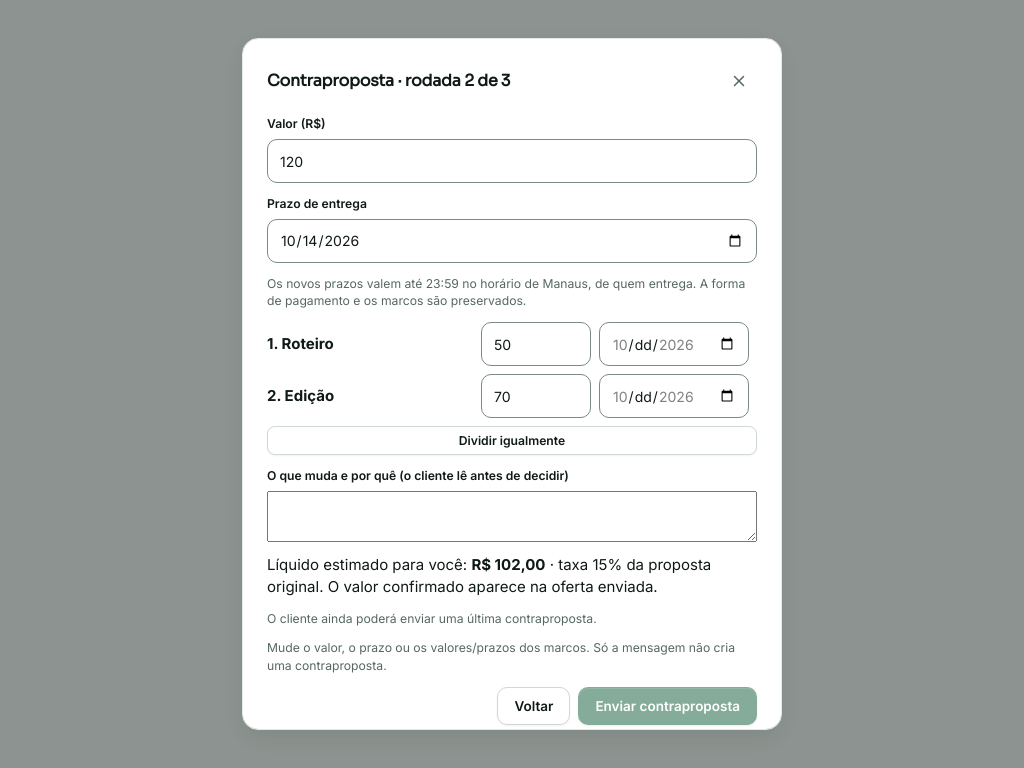
CounterOfferModal › preserva ids, títulos, modo, fuso e seq ao editar valor e ratear os marcos
Expected: the date field labelled "Prazo de entrega" holds "2026-10-14", [267, 219, 757, 263]
Replace the text in the number field labelled "Valor (R$)" with "200.01": (512, 161) [267, 139, 757, 183]
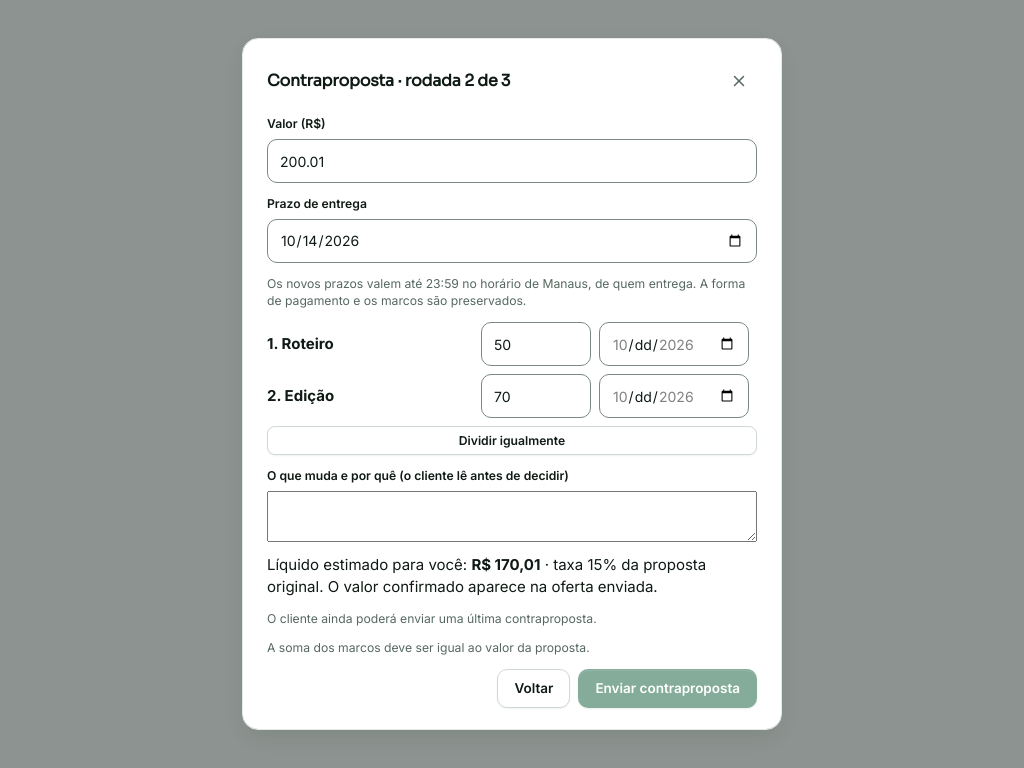
Click the button "Dividir igualmente": (512, 441) [267, 426, 757, 455]
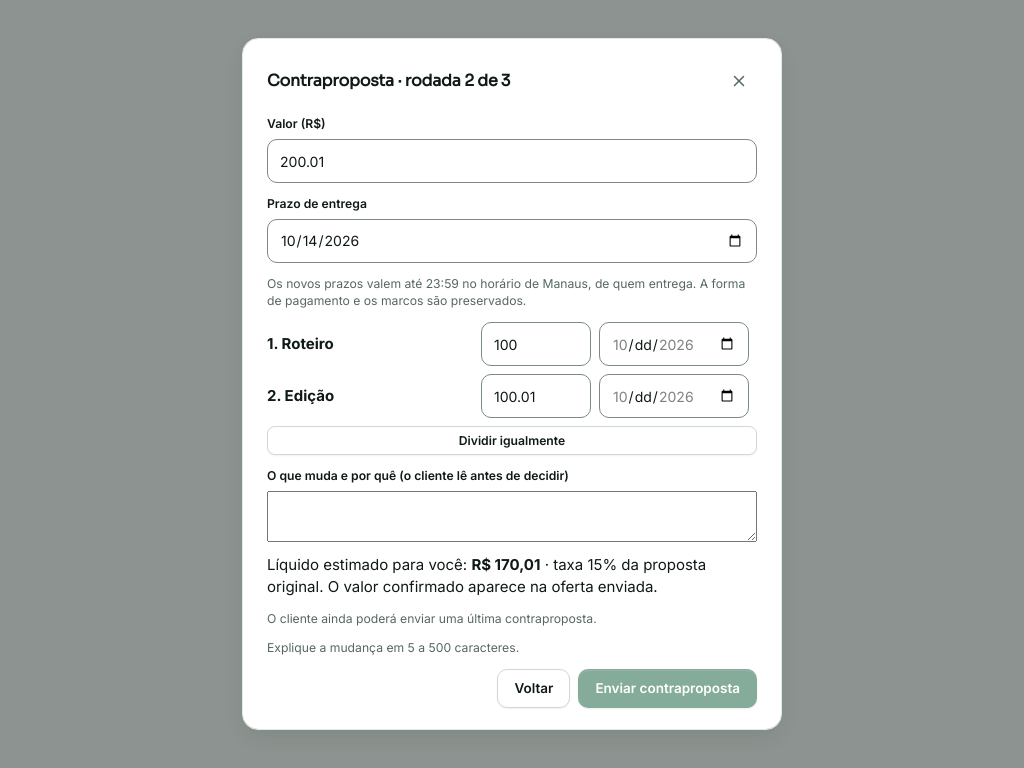
Now the number field named "Valor do marco 1" holds "100", box [481, 322, 591, 366]
Now the number field named "Valor do marco 2" holds "100.01", box [481, 374, 591, 418]
In the date field labelled "Prazo de entrega": (512, 241) [267, 219, 757, 263], type "2026-10-16"
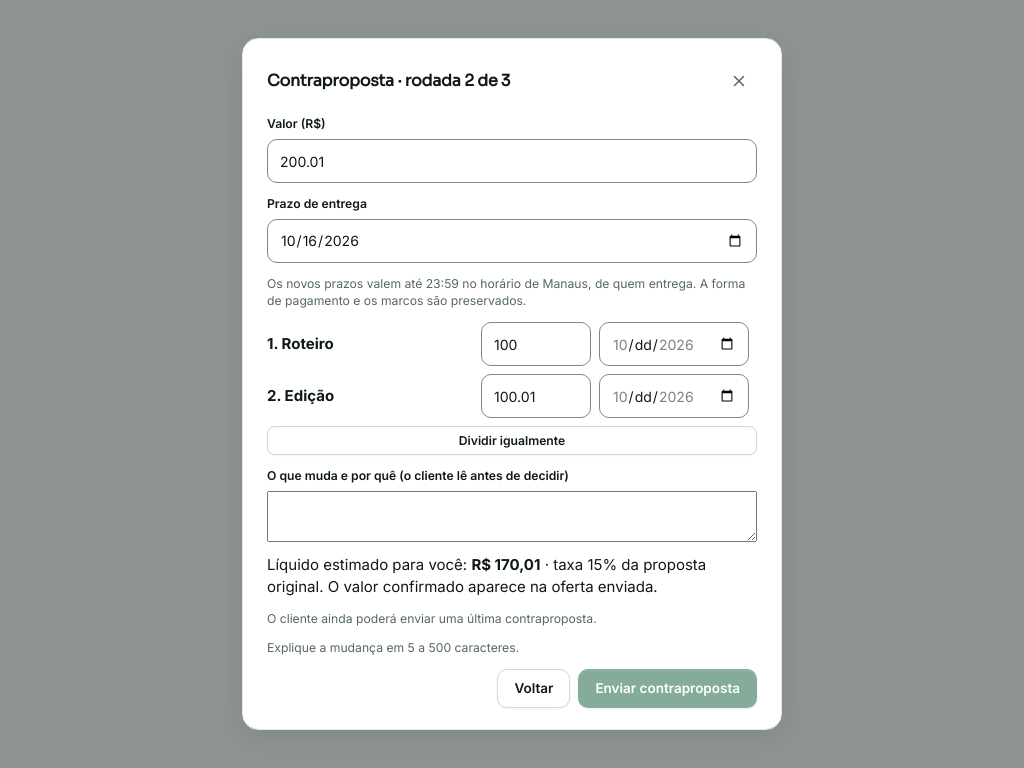
In the text box labelled "O que muda e por quê (o cliente lê antes de decidir)": (512, 516) [267, 491, 757, 542], type "  Novo valor e prazo  "
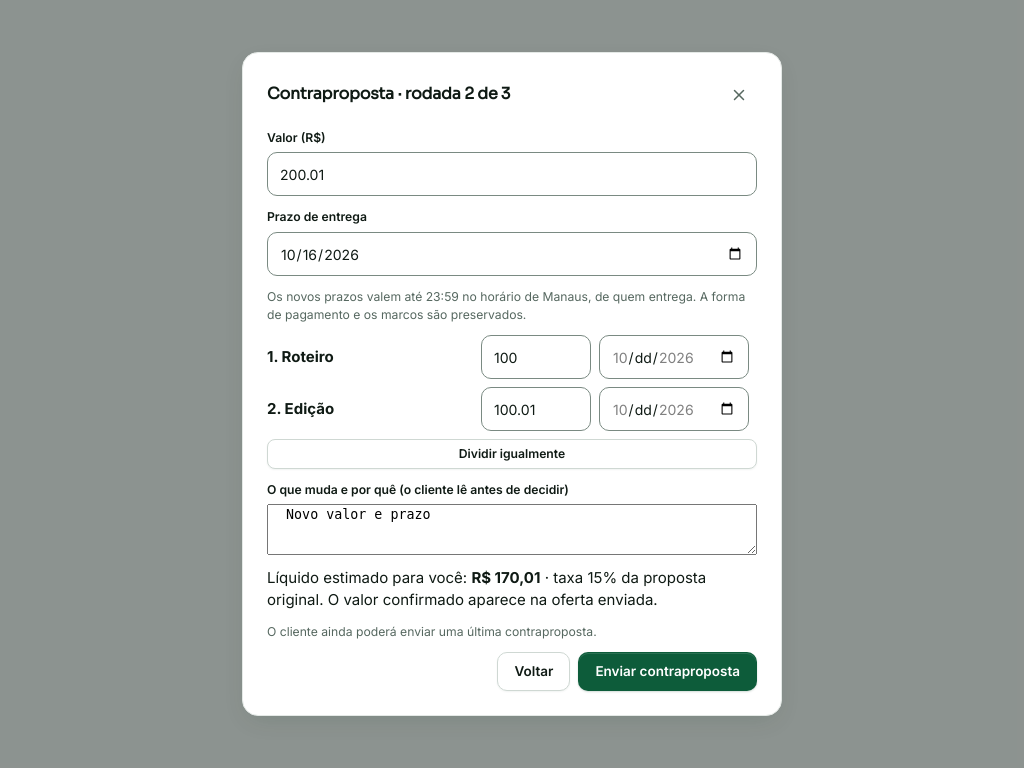
Click the button "Enviar contraproposta": (668, 672) [578, 652, 757, 691]
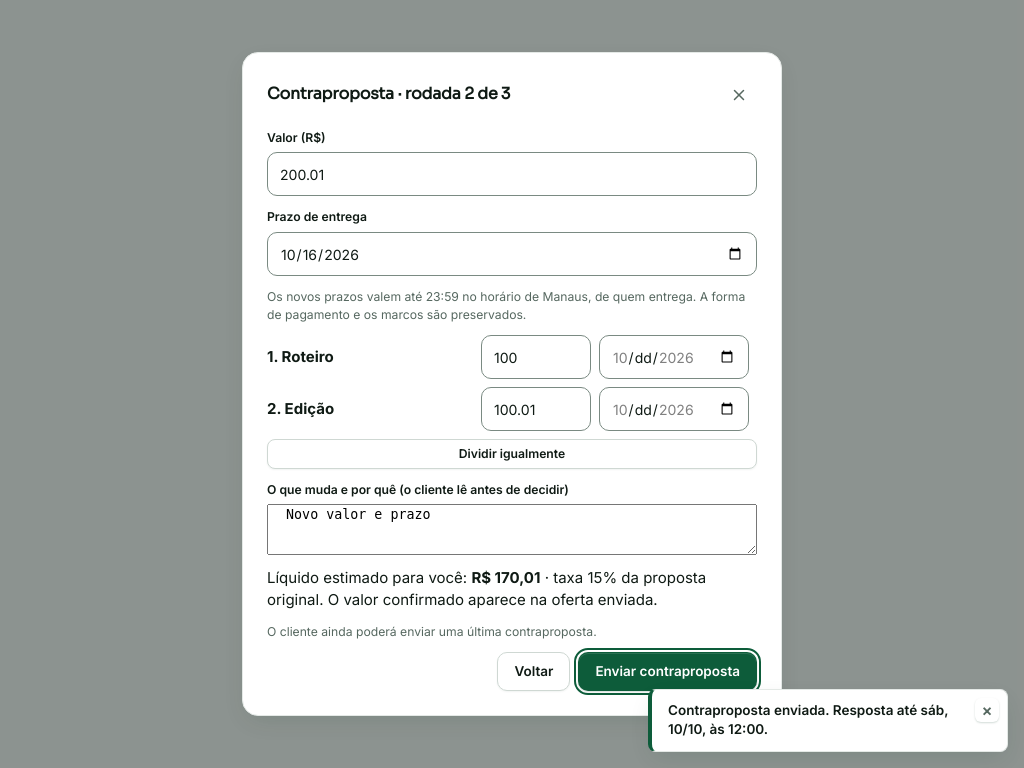
Now the text "Contraproposta enviada. Resposta até sáb, 10/10, às 12:00." is shown, box [668, 701, 967, 740]
